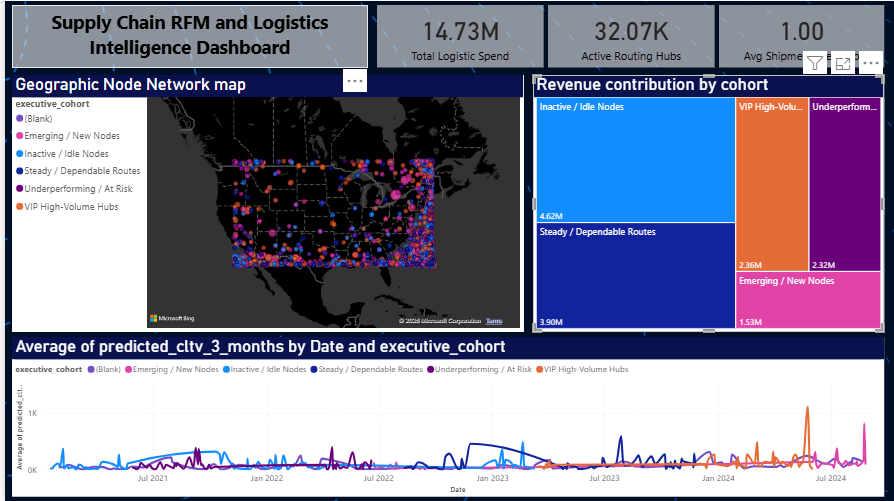

Layout of this report page (visuals, bound fields, positions):
{"tool":"powerbi","page":{"name":"Page 1","canvas":[1280,720],"ordinal":0},"visuals":[{"type":"card","fields":{"Values":["Sum(rfm_analytics v_executive_rfm_segmentation.raw_monetary)"]},"box":[536,6,240,90],"z":0},{"type":"card","fields":{"Values":["Count(rfm_analytics v_executive_rfm_segmentation.routing_hub)"]},"box":[782,6,240,90],"z":1000},{"type":"card","fields":{"Values":["Avg(rfm_analytics v_executive_rfm_segmentation.raw_frequency)"]},"box":[1028,6,238,90],"z":2000},{"type":"map","title":"Geographic Node Network map","fields":{"Series":["rfm_analytics v_executive_rfm_segmentation.executive_cohort"],"Y":["Avg(rfm_analytics v_executive_rfm_segmentation.Latitude)"],"X":["Avg(rfm_analytics v_executive_rfm_segmentation.Longitude)"],"Size":["Avg(predicted_cltv_projections.predicted_cltv_3_months)"]},"box":[10,106,736,370],"z":3000},{"type":"treemap","title":"Revenue contribution by cohort","fields":{"Group":["rfm_analytics v_executive_rfm_segmentation.executive_cohort"],"Values":["Sum(rfm_analytics v_executive_rfm_segmentation.raw_monetary)"]},"box":[760,106,506,370],"z":4000},{"type":"lineChart","fields":{"Y":["Avg(predicted_cltv_projections.predicted_cltv_3_months)"],"Series":["v_executive_rfm_segmentation.executive_cohort"],"Category":["Calendar.Date"]},"box":[10,484,1256,230],"z":5000},{"type":"textbox","box":[10,6,512,90],"z":6000}]}

Visuals, with their boxes in screenshot pixels (x1, y1, x2, y2), scaled from the page's 1280x720 canvas onto the 894x501 screenshot:
card - Sum(rfm_analytics v_executive_rfm_segmentation.raw_monetary): crop(374, 4, 542, 67)
card - Count(rfm_analytics v_executive_rfm_segmentation.routing_hub): crop(546, 4, 714, 67)
card - Avg(rfm_analytics v_executive_rfm_segmentation.raw_frequency): crop(718, 4, 884, 67)
"Geographic Node Network map" map: crop(7, 74, 521, 331)
"Revenue contribution by cohort" treemap: crop(531, 74, 884, 331)
lineChart - Avg(predicted_cltv_projections.predicted_cltv_3_months) x v_executive_rfm_segmentation.executive_cohort: crop(7, 337, 884, 497)
textbox: crop(7, 4, 365, 67)
